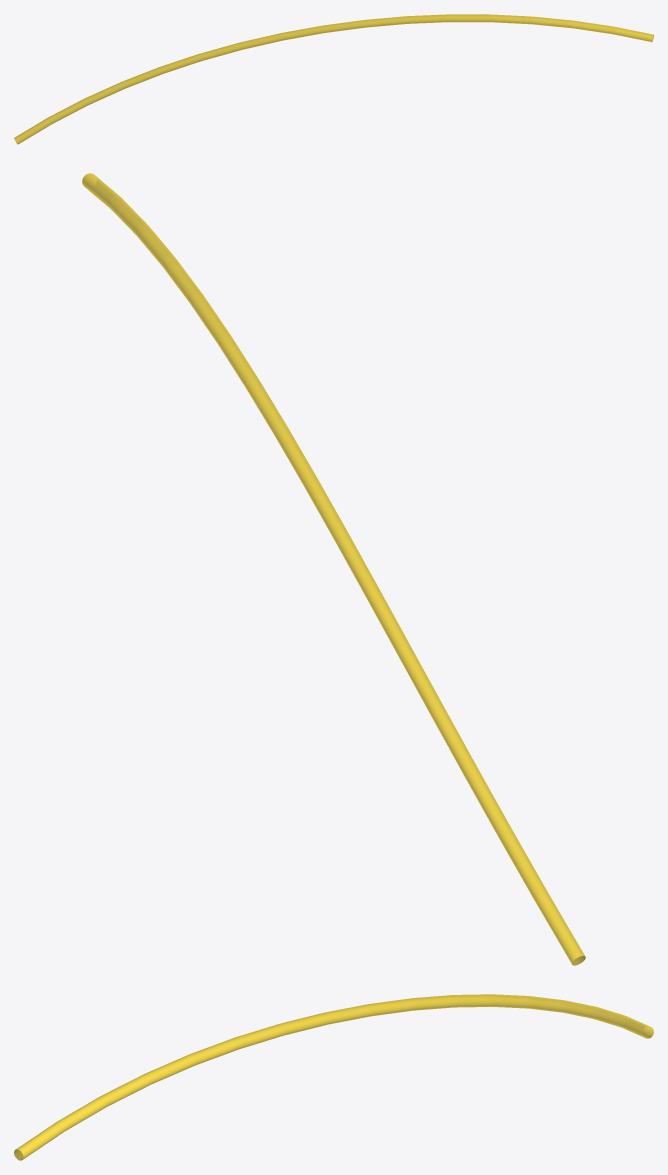
The model's file is Event_27938768_track_16.fbx.
3 renders of one model, top to bottom at view 1: azimuth 30°, elevation 25°; view 2: azimuth 150°, elevation 25°; view 3: azimuth 270°, elevation 25°, orthographic. The views are drawn at different scales.
Visible parts, largest first — view 1: Model; view 2: Model; view 3: Model.
Part boxes in pixels (x1,y1,x2,y2): Model: (14, 14, 653, 144); Model: (82, 173, 585, 965); Model: (14, 994, 653, 1160).
Size of the model in its own units: 2.62 by 0.8629 by 2.03.
